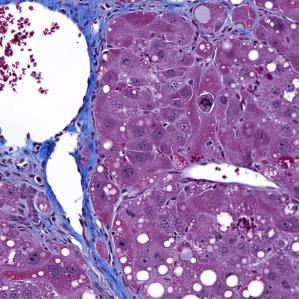fibrosis: (71, 158, 116, 273), (70, 3, 109, 130)
